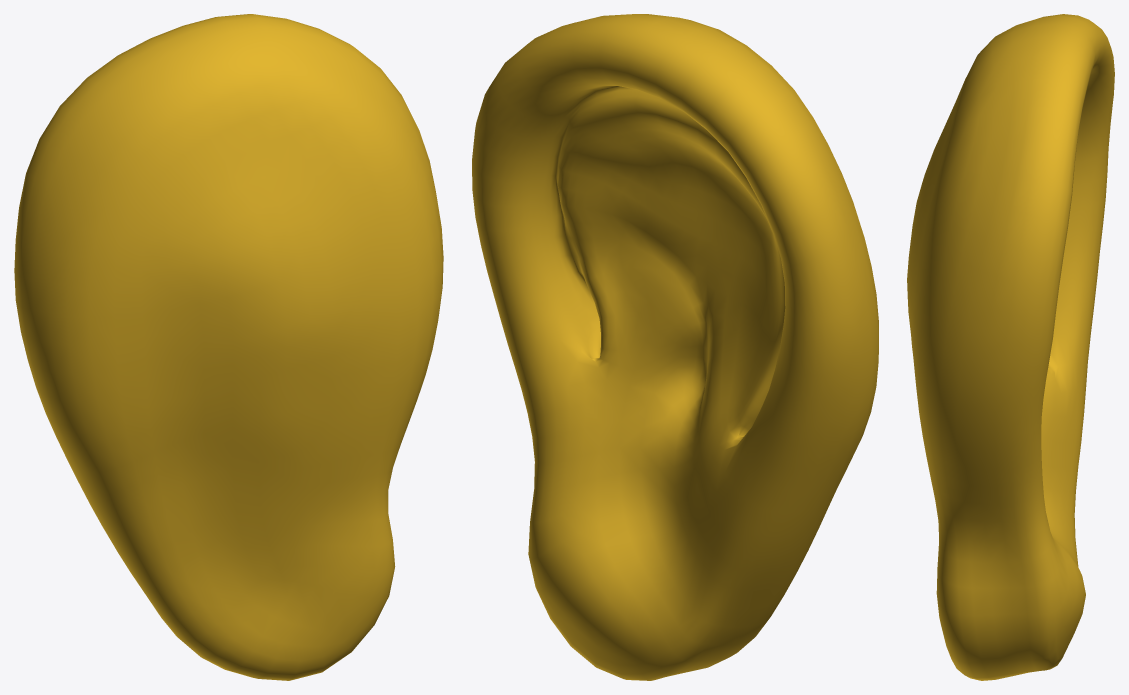
File: ear FBX.glb
The picture shows the model from 3 angles, left to right: view 1: azimuth 30°, elevation 25°; view 2: azimuth 150°, elevation 25°; view 3: azimuth 270°, elevation 25°; orthographic projection. The views are drawn at different scales.
Visible parts, largest first — view 1: Group16514; view 2: Group16514; view 3: Group16514.
Boxes of the visible parts, x1,y1,x2,y2 form: Group16514: (14, 14, 443, 680); Group16514: (472, 14, 878, 680); Group16514: (907, 14, 1114, 680).
Size of the model in its own units: 0.331 by 0.5288 by 0.1603.
